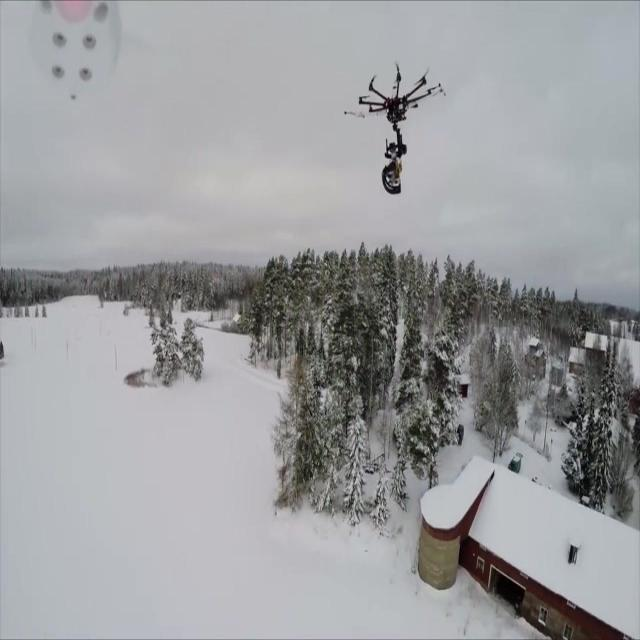drone: (358, 68, 446, 198)
